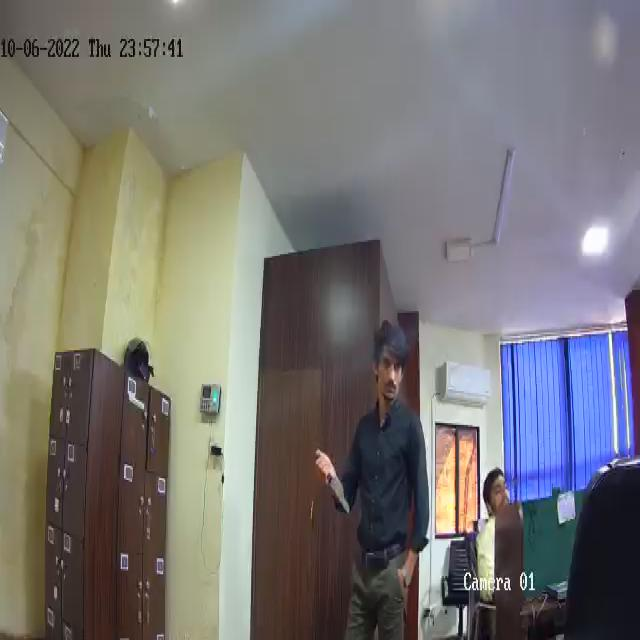Knife: (314, 457, 352, 519)
